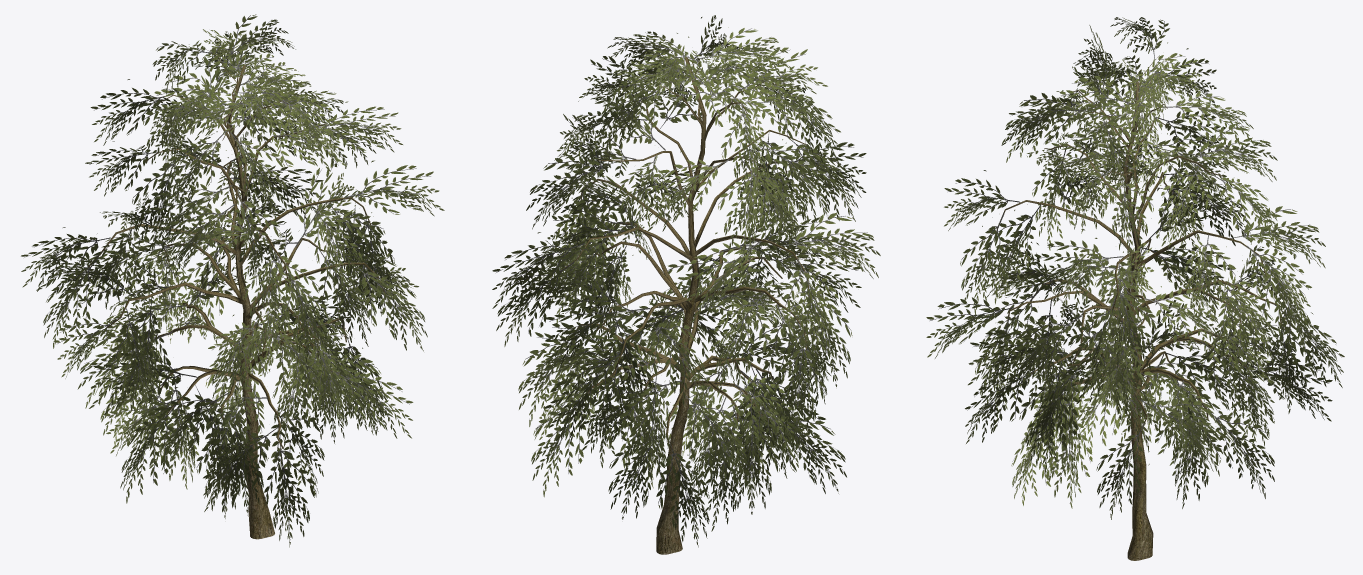
Rendered from SM_Birch2.fbx.
3 views of the same model, side by side, from view 1: azimuth 30°, elevation 25°; view 2: azimuth 150°, elevation 25°; view 3: azimuth 270°, elevation 25° (orthographic). The views are drawn at different scales.
Visible parts, largest first — view 1: SM_Birch2_LOD0; view 2: SM_Birch2_LOD0; view 3: SM_Birch2_LOD0.
Part boxes in pixels (bbox=[...]): SM_Birch2_LOD0: bbox=[21, 14, 444, 547]; SM_Birch2_LOD0: bbox=[492, 15, 880, 554]; SM_Birch2_LOD0: bbox=[926, 17, 1344, 560].
Bounding box in the file's own units: 276 × 291 × 378.
Materials: 2 (2 with a texture image).
